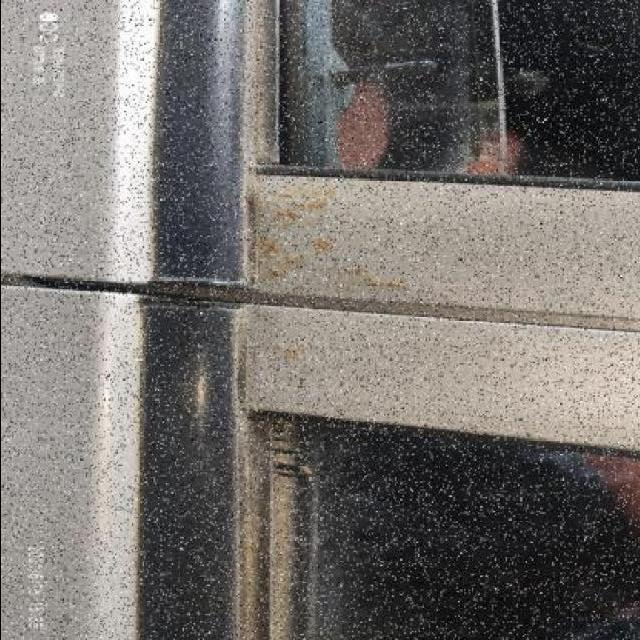pillar-dent: (236, 305, 637, 458), (239, 177, 640, 303)
